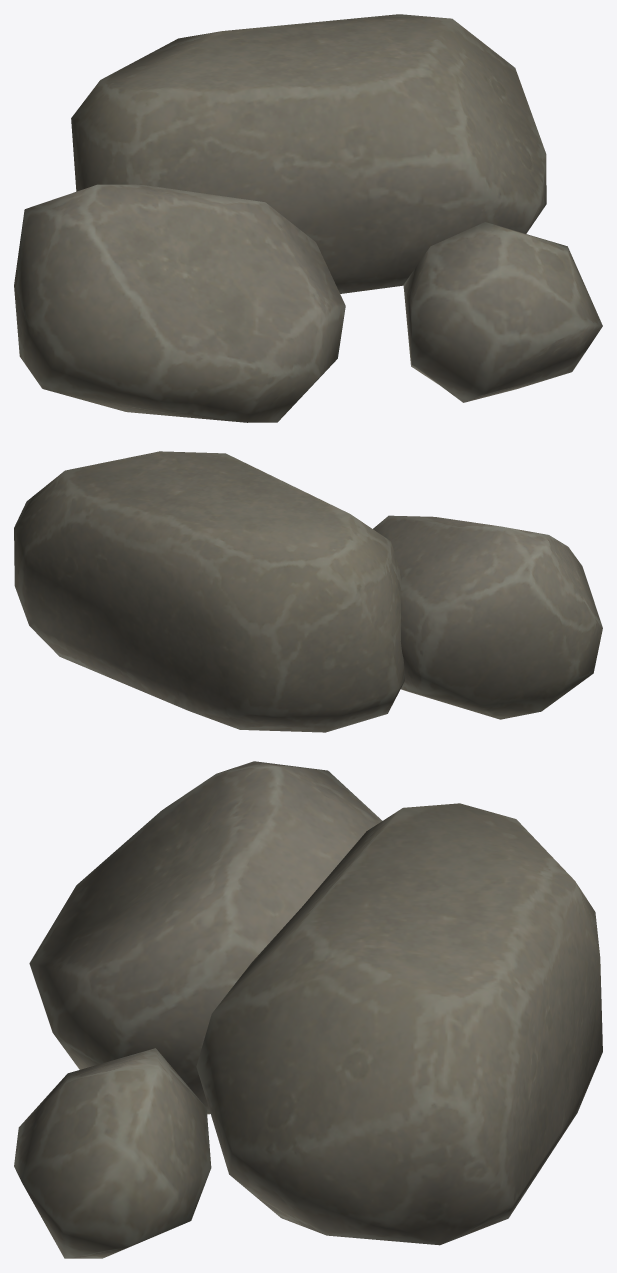
File: MSH_fwOF_Debris_03.fbx
3 renders of one model, top to bottom at view 1: azimuth 30°, elevation 25°; view 2: azimuth 150°, elevation 25°; view 3: azimuth 270°, elevation 25°, orthographic. The views are drawn at different scales.
Parts seen in each view (by area): view 1: MSH_fwOF_Debris_03_LOD0; view 2: MSH_fwOF_Debris_03_LOD0; view 3: MSH_fwOF_Debris_03_LOD0.
Part boxes in pixels (x1=…): MSH_fwOF_Debris_03_LOD0: x1=14, y1=14, x2=602, y2=422; MSH_fwOF_Debris_03_LOD0: x1=14, y1=451, x2=602, y2=732; MSH_fwOF_Debris_03_LOD0: x1=14, y1=761, x2=602, y2=1258.
Size of what is drawn, in the model's own units: 0.7686 by 0.3383 by 0.5733.
